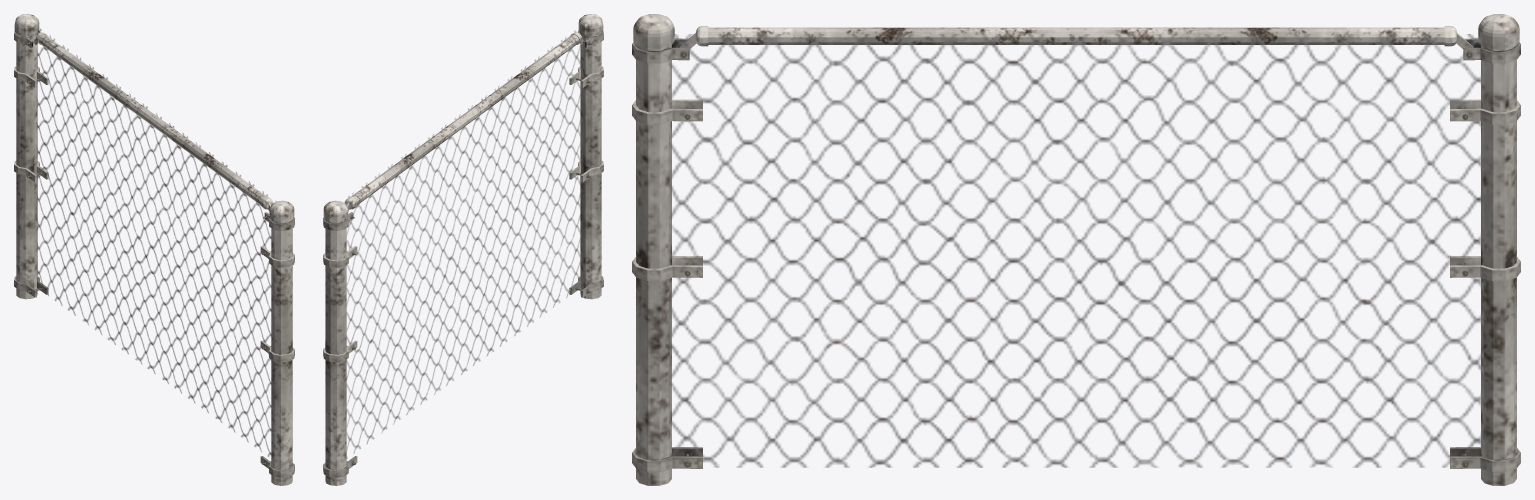
File: chain_link_fence.glb
3 views of the same model, side by side, from view 1: azimuth 30°, elevation 25°; view 2: azimuth 150°, elevation 25°; view 3: azimuth 270°, elevation 25° (orthographic). The views are drawn at different scales.
Parts seen in each view (by area): view 1: Object_2; view 2: Object_2; view 3: Object_2.
Boxes of the visible parts, x1,y1,x2,y2 form: Object_2: (14, 14, 294, 485); Object_2: (323, 14, 603, 485); Object_2: (632, 14, 1520, 485).
Bounding box in the file's own units: 0.5956 × 7.27 × 12.73.
1 material, 1 textured.
